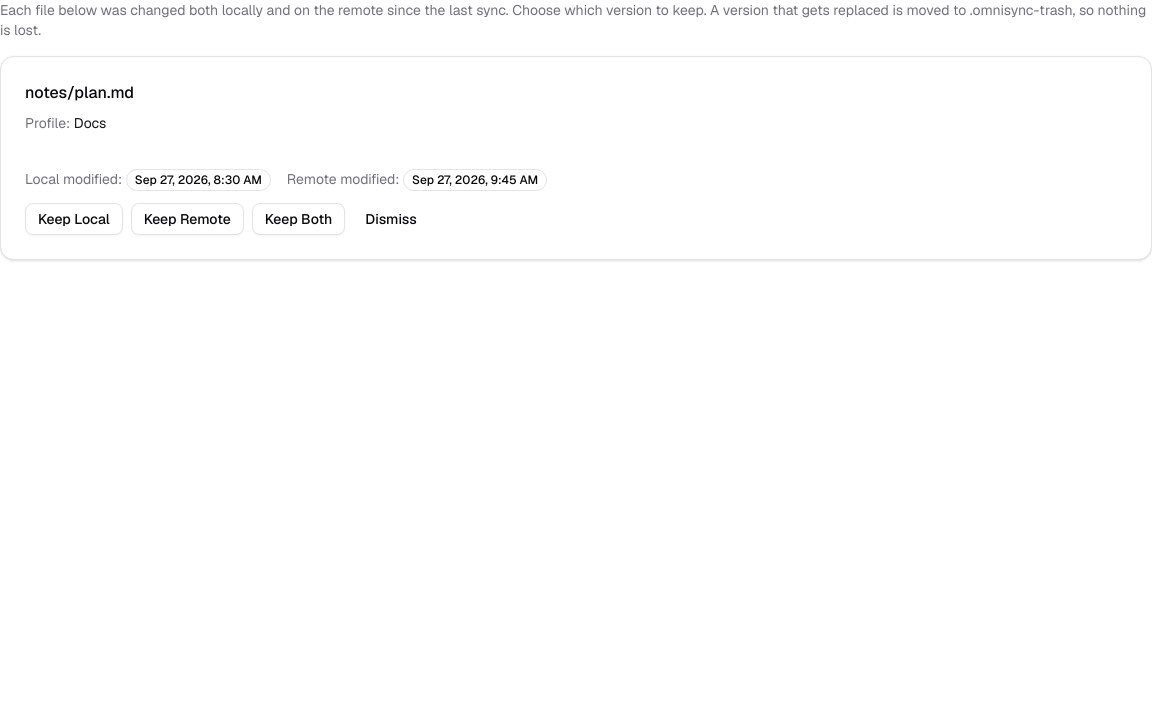
Scenario: ConflictList actions › cancelling the confirmation resolves nothing
Click the button "Keep Remote" at coordinates (187, 219), box [131,203,244,235]
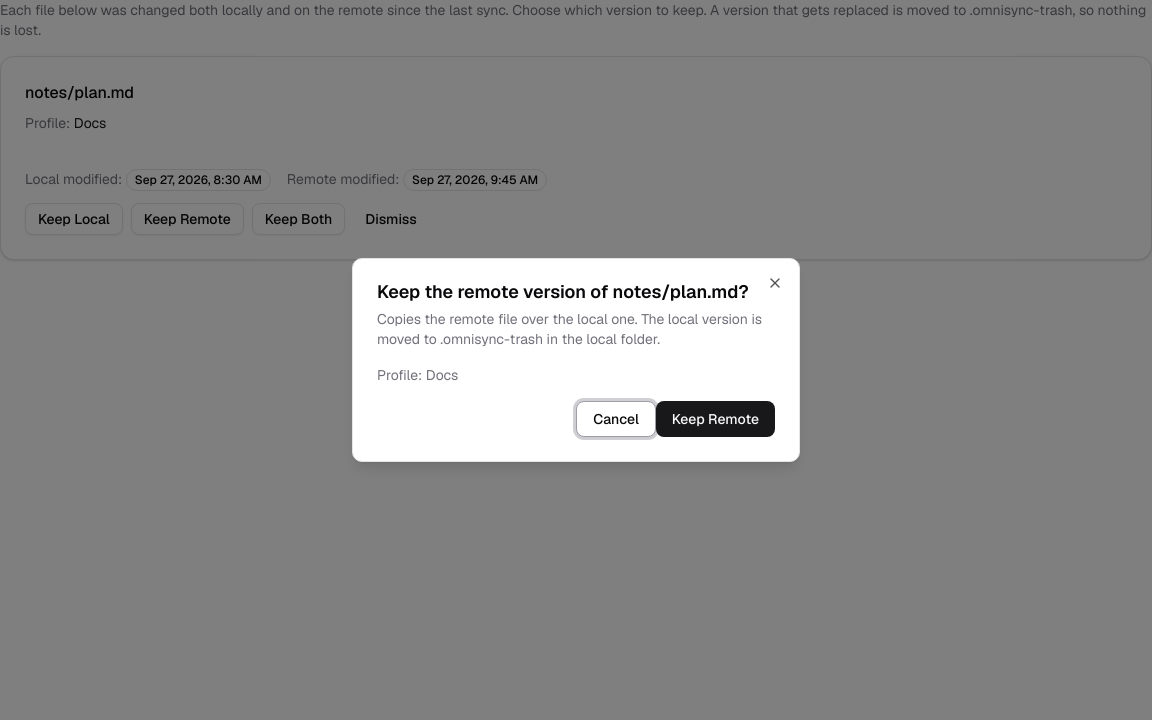
Click the button "Cancel" at coordinates (616, 419), box [576,401,656,437]
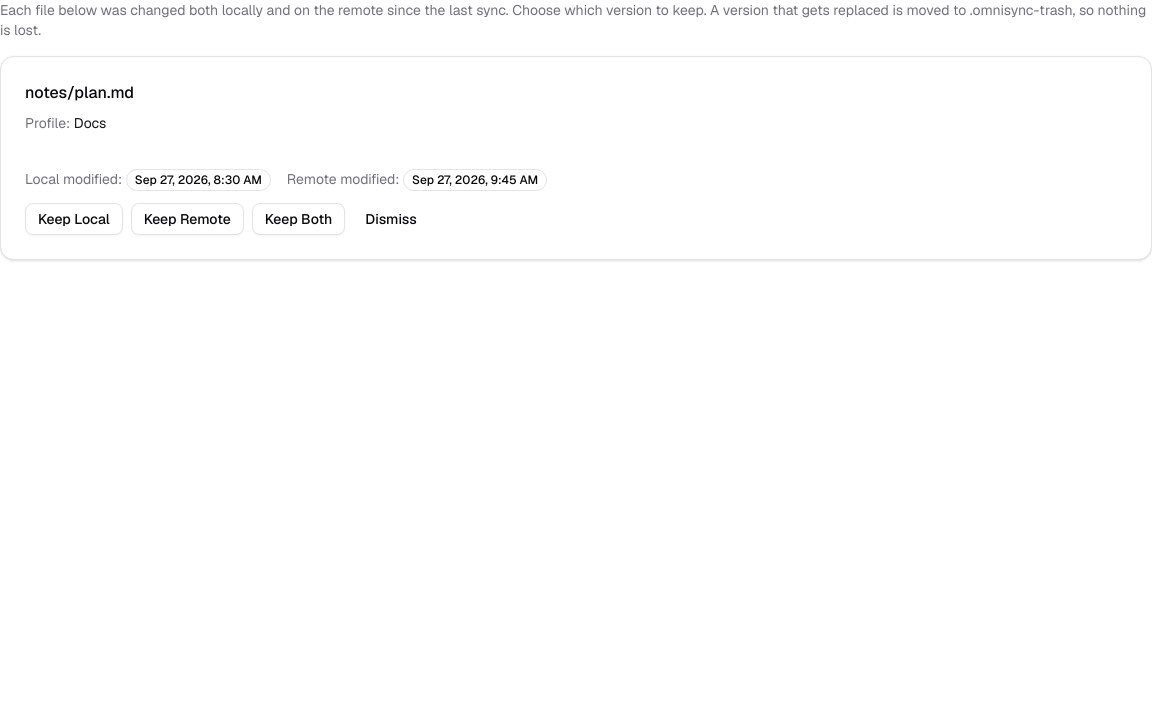
Check: the dialog is gone
